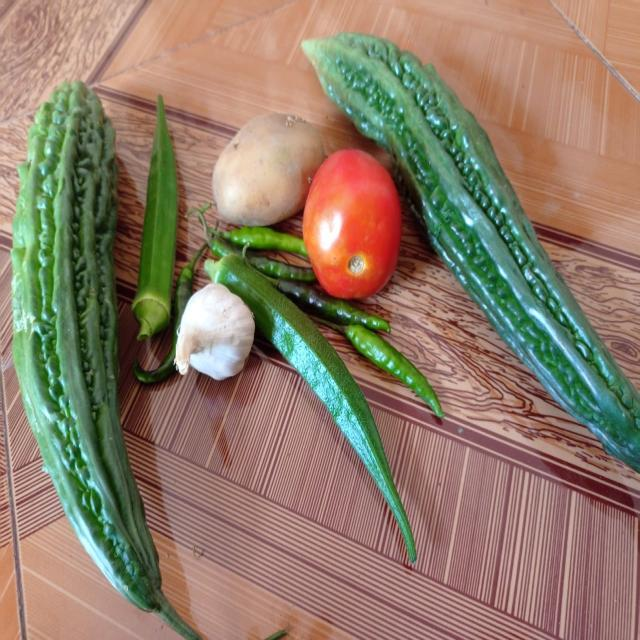Organik: (2, 61, 148, 634), (336, 299, 462, 427), (298, 150, 406, 292), (198, 108, 326, 226), (132, 74, 183, 341), (169, 285, 258, 390)
